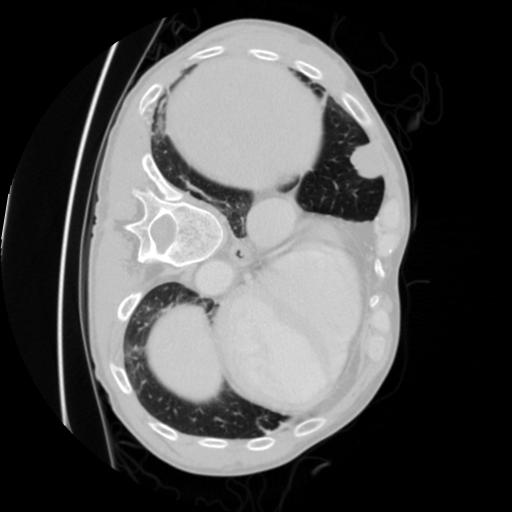nodule: (346, 140, 388, 182)
